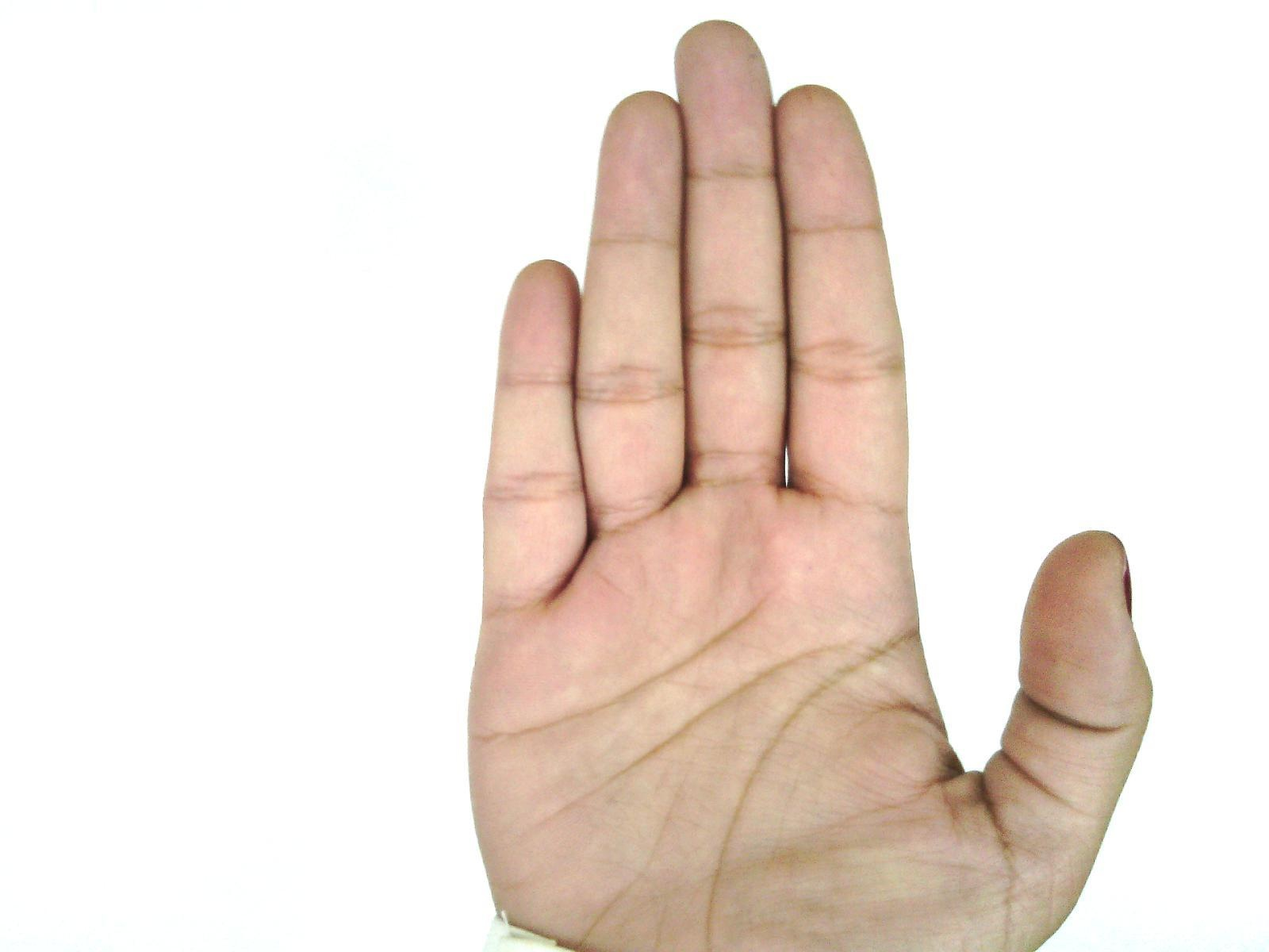open_palm: (463, 19, 1156, 951)
